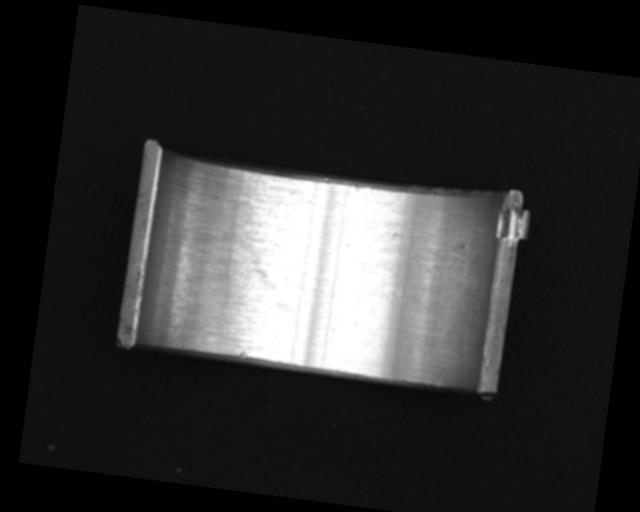bruise: (236, 349, 249, 359)
